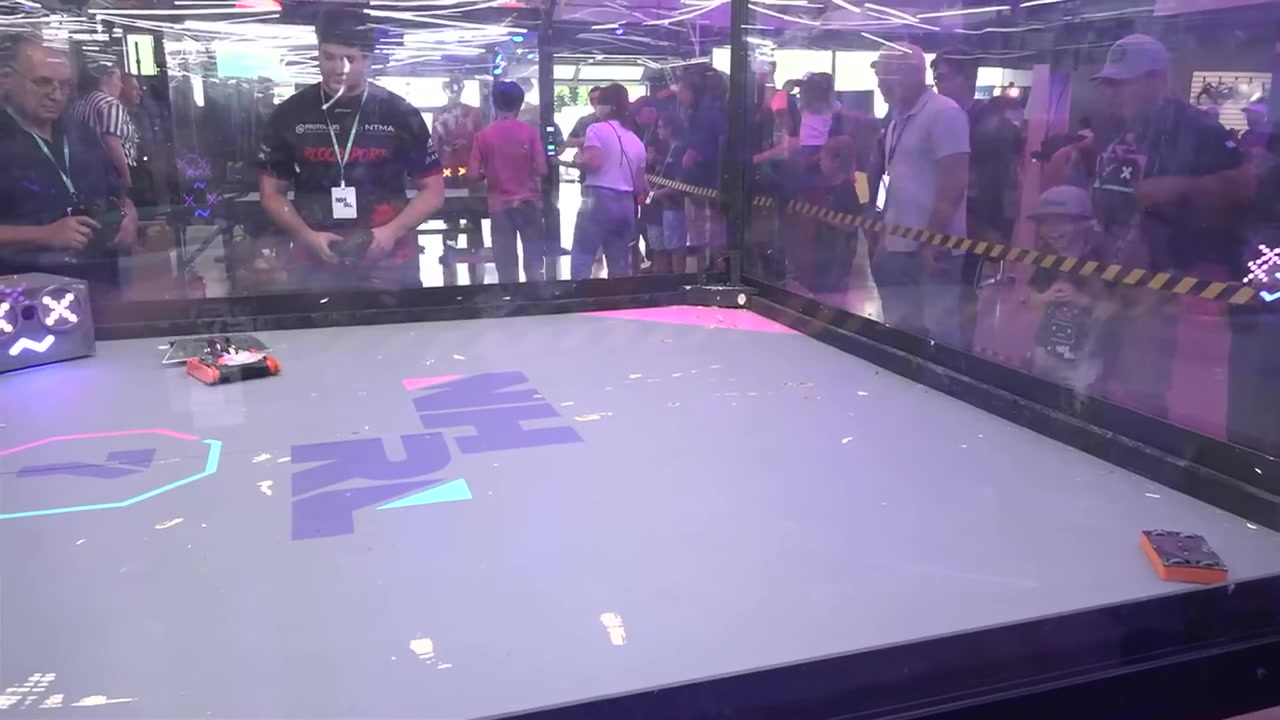combatbot: (182, 341, 282, 386), (161, 333, 273, 359)
housebot: (0, 274, 95, 387)
minibot: (1133, 527, 1229, 588)
